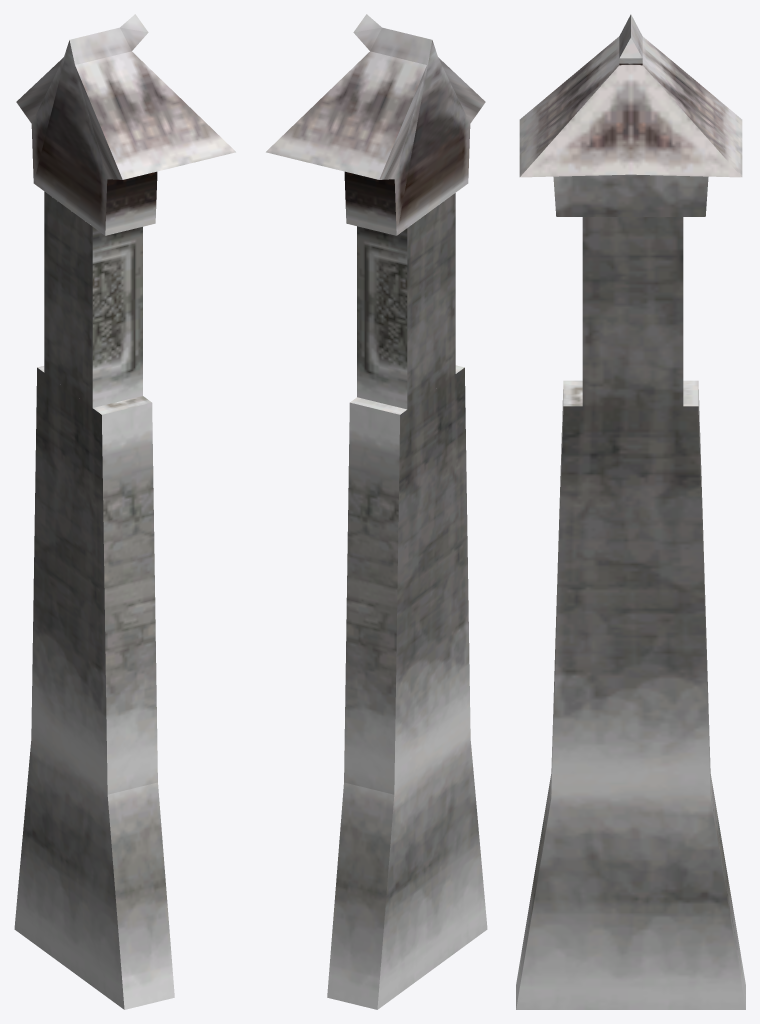
The model's file is snow-middledam-06_lod_01.glb.
3 views of the same model, side by side, from view 1: azimuth 30°, elevation 25°; view 2: azimuth 150°, elevation 25°; view 3: azimuth 270°, elevation 25° (orthographic). The views are drawn at different scales.
Parts seen in each view (by area): view 1: snow-middledam-02; view 2: snow-middledam-02; view 3: snow-middledam-02.
Boxes of the visible parts, box(x1,y1,x2,y2) form: snow-middledam-02: box(14, 14, 235, 1009); snow-middledam-02: box(266, 14, 487, 1009); snow-middledam-02: box(516, 14, 745, 1009).
Bounding box in the file's own units: 1.01 × 8.01 × 1.7.
1 material, 1 textured.
